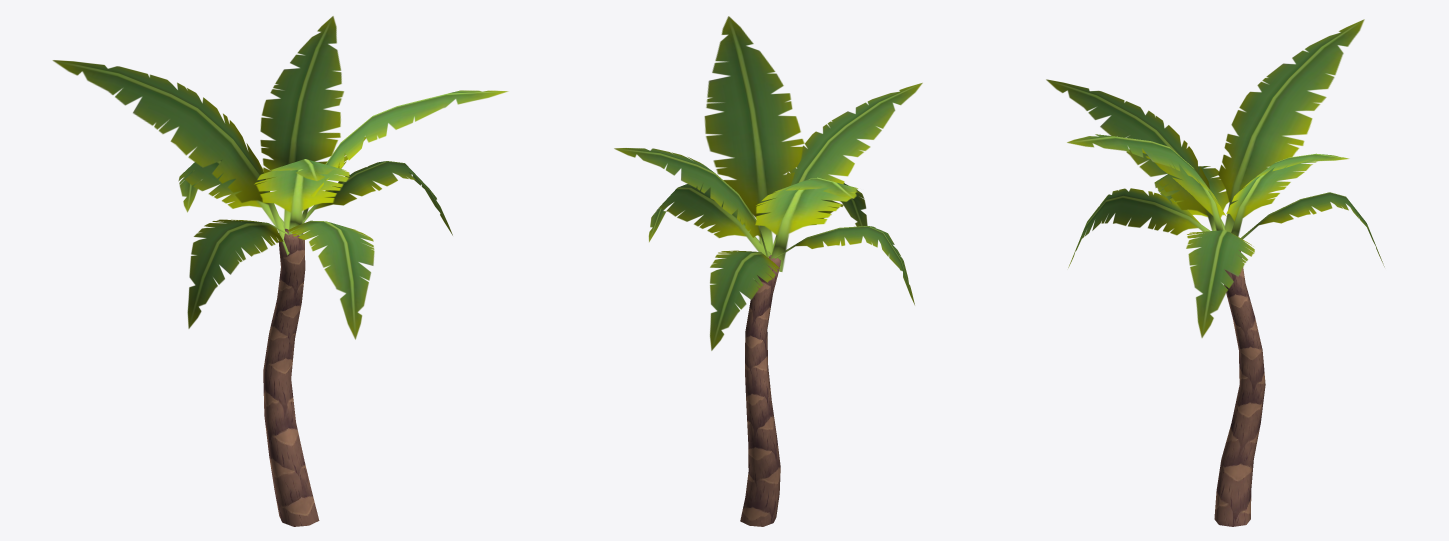
The model's file is palm-2.glb.
3 renders of one model, left to right at view 1: azimuth 30°, elevation 25°; view 2: azimuth 150°, elevation 25°; view 3: azimuth 270°, elevation 25°, orthographic. The views are drawn at different scales.
Visible parts, largest first — view 1: PalmTree_3; view 2: PalmTree_3; view 3: PalmTree_3.
Part boxes in pixels (x1=…): PalmTree_3: x1=52, y1=16, x2=508, y2=526; PalmTree_3: x1=614, y1=16, x2=922, y2=526; PalmTree_3: x1=1046, y1=19, x2=1384, y2=526.
Bounding box in the file's own units: 6.71 × 7 × 6.33.
2 materials, 2 textured.
